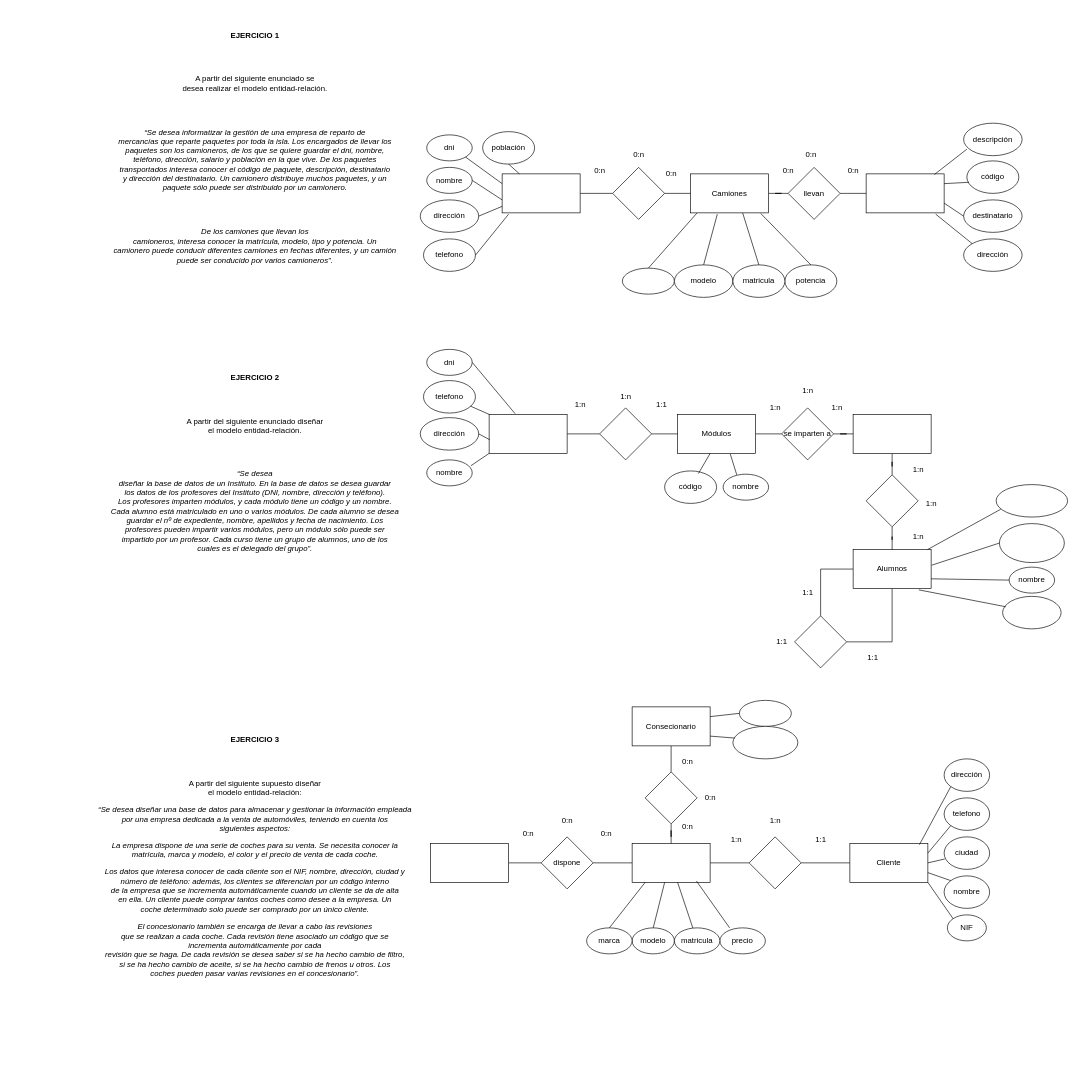
Some shapes in this 1079 by 1075 pixel diagram are drawn without their labels. Here are the shapes that lost their labels. From the top down, the centre of each, then its label:
At point (540, 193): "Camioneros".
At point (638, 193): "conducen".
At point (904, 193): "Paquetes".
At point (648, 280): "tipo".
At point (527, 433): "Profesores".
At point (625, 433): "imparten".
At point (891, 433): "Cursos".
At point (891, 500): "pertenecen".
At point (1031, 500): "nº expediente".
At point (1031, 543): "fecha de nacimiento".
At point (1031, 612): "apellidos".
At point (820, 641): "es delegado".
At point (765, 713): "codigo".
At point (765, 742): "datos revisión".
At point (670, 797): "revisa".
At point (469, 862): "Empresa".
At point (670, 862): "Coches".
At point (774, 862): "compra".
